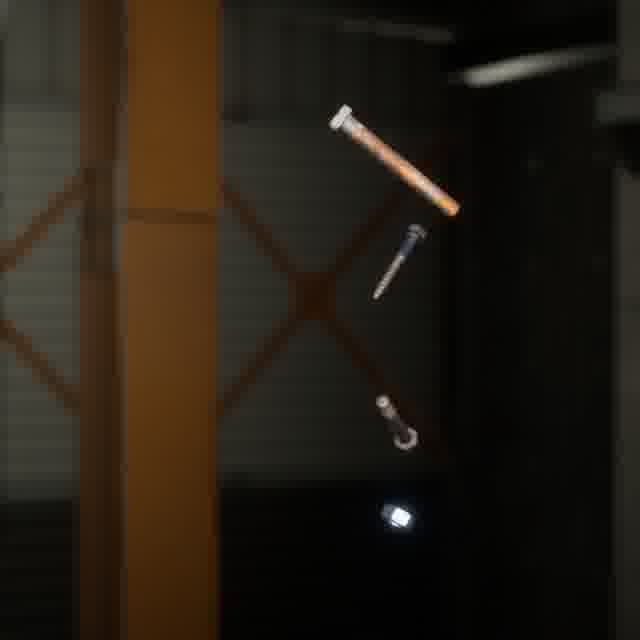bolt: (324, 100, 464, 221), (368, 219, 431, 304), (371, 390, 422, 457)
nut: (376, 499, 418, 535)
